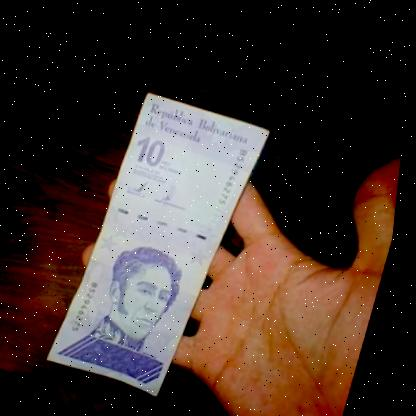ten-front-vef: (48, 86, 278, 404)
